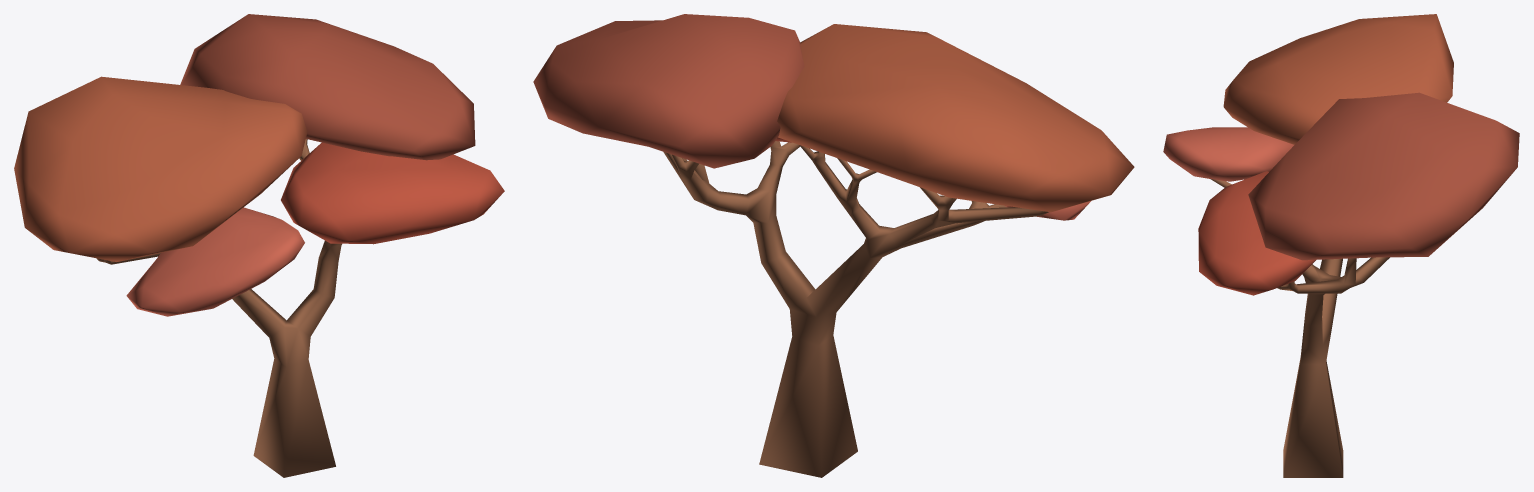
The model's file is Acacia_Red_2.fbx.
3 views of the same model, side by side, from view 1: azimuth 30°, elevation 25°; view 2: azimuth 150°, elevation 25°; view 3: azimuth 270°, elevation 25° (orthographic). The views are drawn at different scales.
Parts seen in each view (by area): view 1: Icosphere_036, Icosphere_032, Icosphere_030, Cube_129, Icosphere_031; view 2: Icosphere_036, Icosphere_032, Cube_129; view 3: Icosphere_032, Icosphere_036, Cube_129, Icosphere_030, Icosphere_031.
Boxes of the visible parts, left/top/right/bottom form: Icosphere_036: left=14, top=76, right=307, bottom=261; Icosphere_032: left=180, top=14, right=475, bottom=160; Icosphere_030: left=281, top=142, right=504, bottom=244; Cube_129: left=96, top=139, right=341, bottom=477; Icosphere_031: left=126, top=207, right=304, bottom=316; Icosphere_036: left=777, top=24, right=1134, bottom=212; Icosphere_032: left=533, top=14, right=804, bottom=168; Cube_129: left=663, top=141, right=1048, bottom=477; Icosphere_032: left=1248, top=92, right=1519, bottom=260; Icosphere_036: left=1223, top=14, right=1453, bottom=144; Cube_129: left=1210, top=178, right=1389, bottom=477; Icosphere_030: left=1198, top=171, right=1315, bottom=295; Icosphere_031: left=1163, top=127, right=1293, bottom=181.
Bounding box in the file's own units: 858 × 708 × 595.
